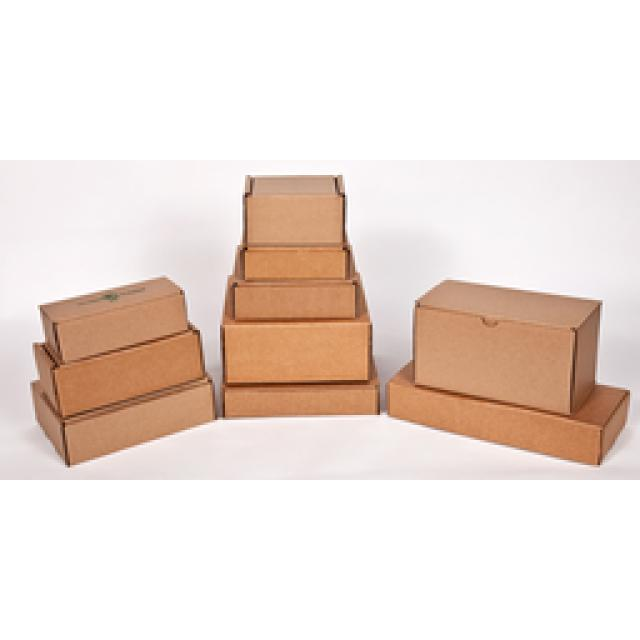cardboard: (388, 280, 628, 462), (220, 175, 375, 415), (30, 278, 212, 462)
